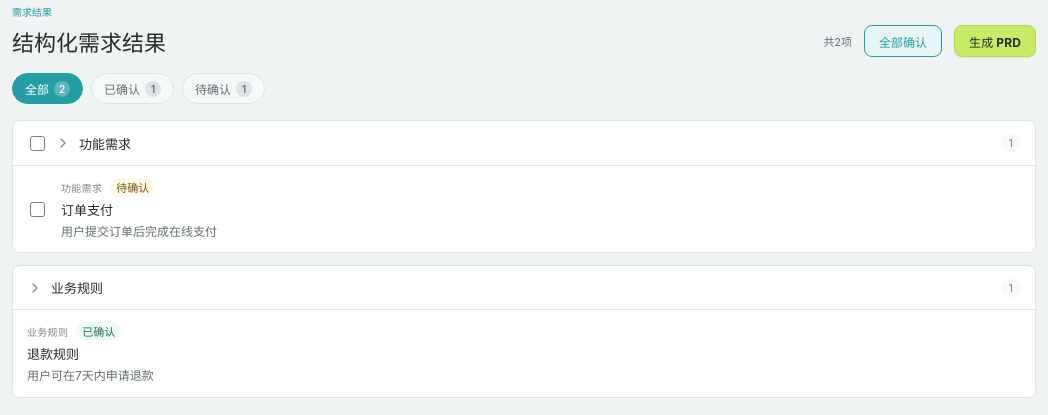
Test case: RequirementsView › filters requirements by status when filter pill is clicked
What coordinates should you click on to do the following:
click the button with class "status-filter__pill" showing "已确认 1"
I would click on:
 (132, 88)
Its box is [91,73,174,104].
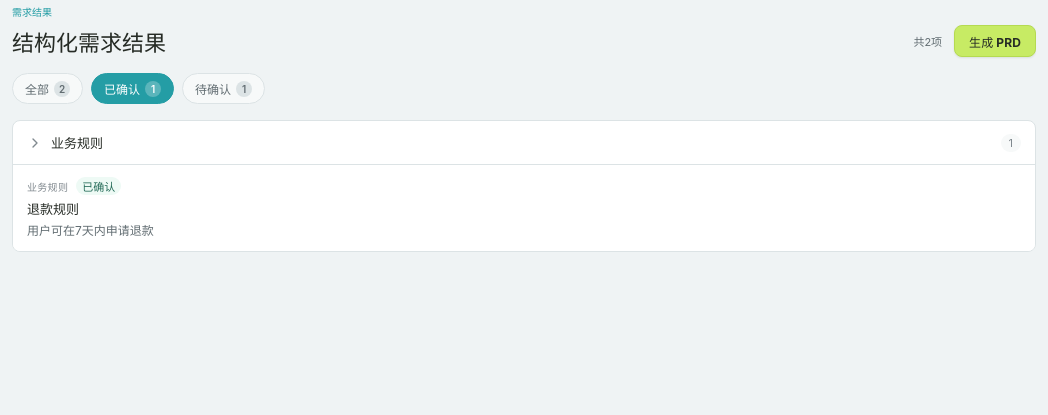
Expected: the text "退款规则" is shown, [27,201,79,217]
Expected: the text "订单支付" is gone
